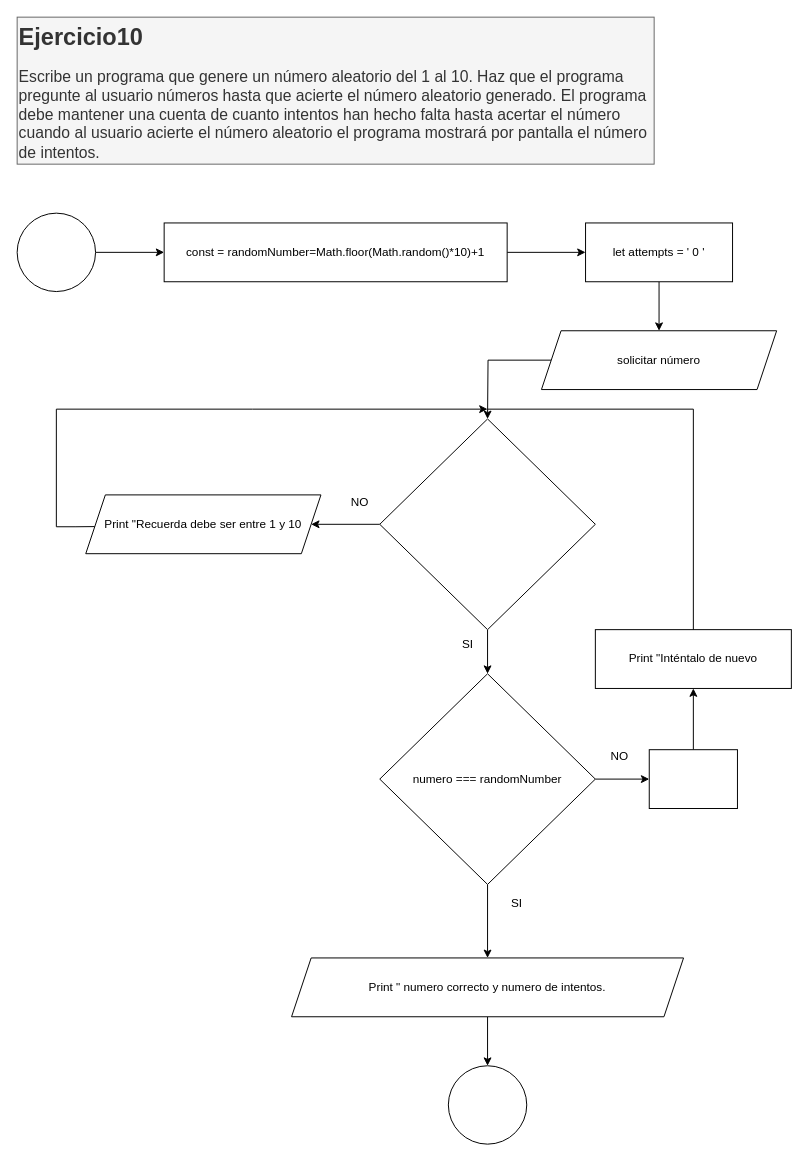
The diagram is 809 pixels wide and 1161 high, and some of its shapes have lost their labels. The shapes that lost their labels are listed below. From the top down, each one's centre as x and y in pixels, then its label:
the point at 56,252: INICIO
the point at 487,524: isNaN numero || numero <1 || numero >10
the point at 692,778: Attempts++
the point at 487,1104: FIN
